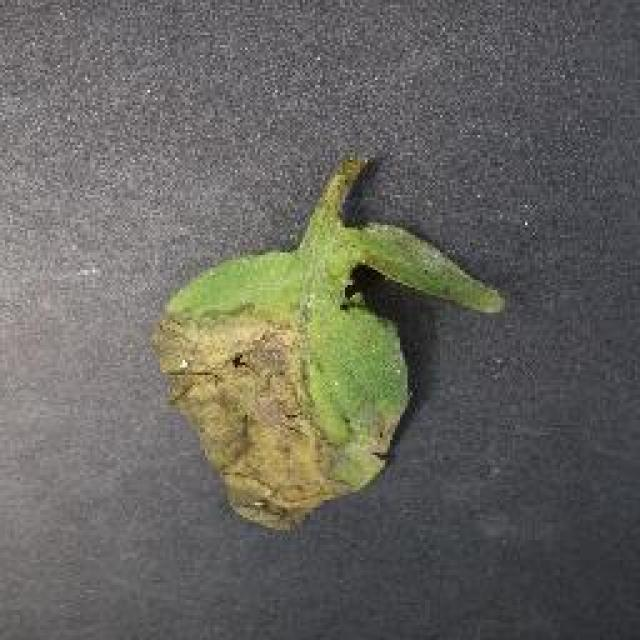leaf blight: (154, 156, 511, 535)
